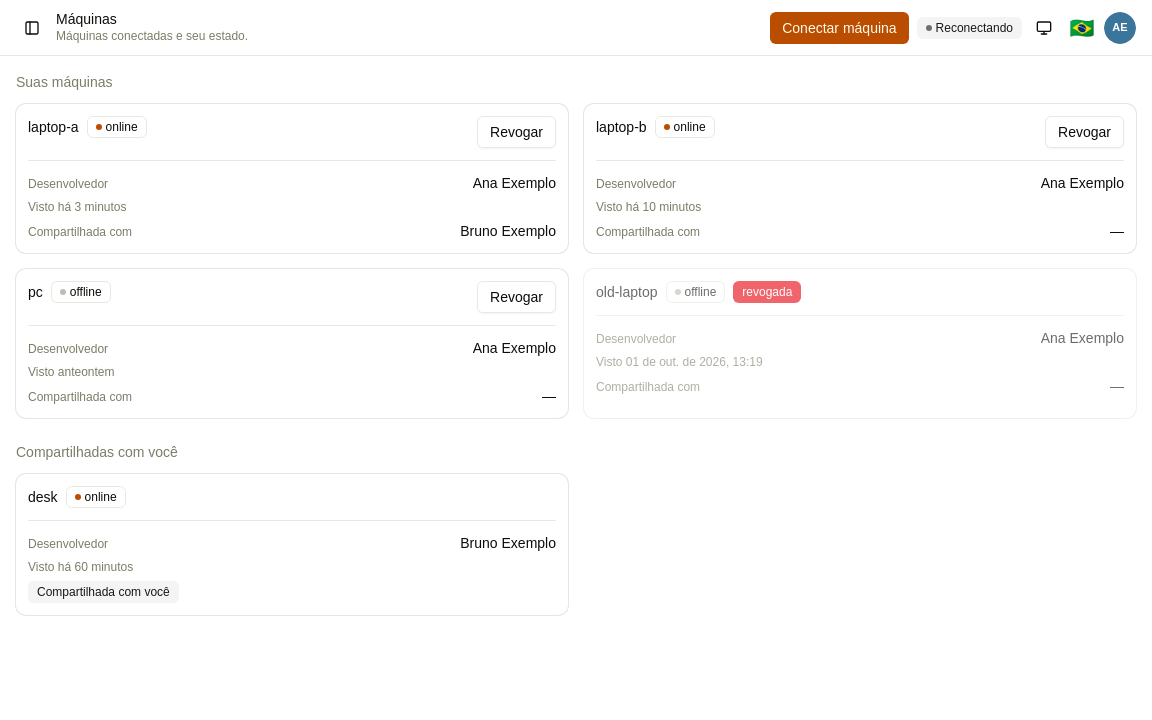
it: machines › revokes only after the confirmation dialog, never via confirm()
The width and height of the screenshot is (1152, 720).
Click the button "Revogar" in the row of "laptop-b". click: (1085, 132)
box: [1045,116,1124,148]
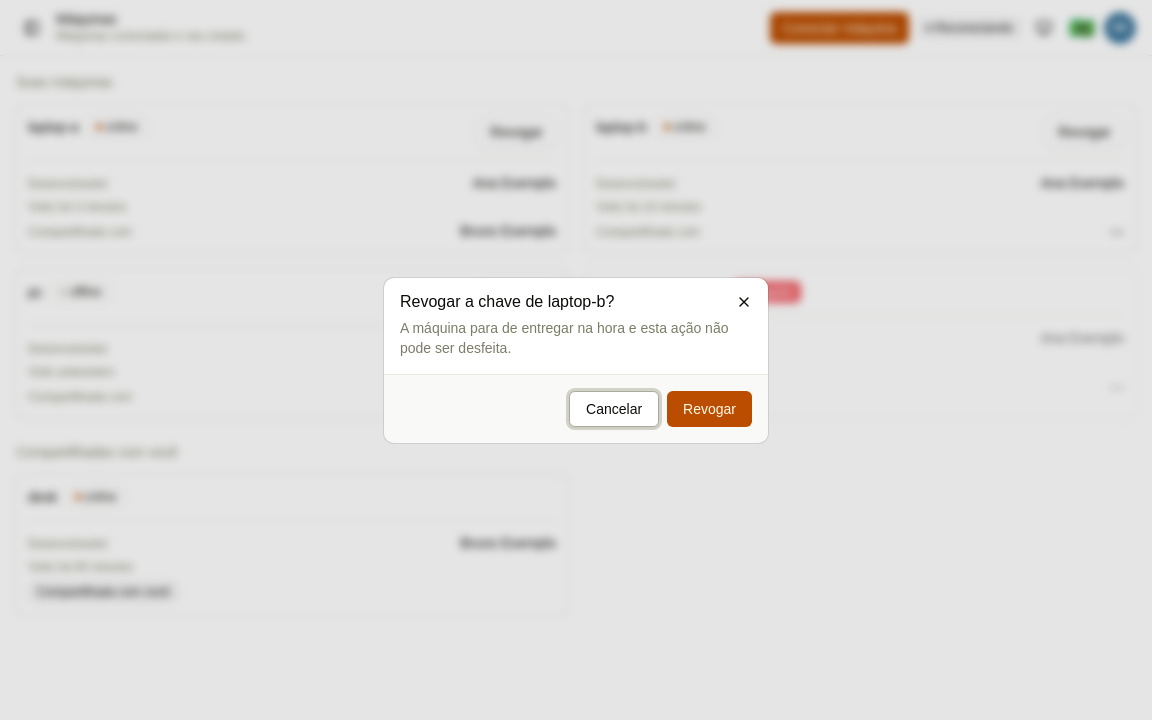
Result: the dialog shows "Revogar a chave de laptop-b?" at [400,292,614,310]
Result: the dialog shows "A máquina para de entregar na hora e esta ação não pode ser desfeita." at [400,320,728,356]
Cancelar não chama a API
Click the button "Cancelar". click: (614, 408)
box: [569,390,659,426]
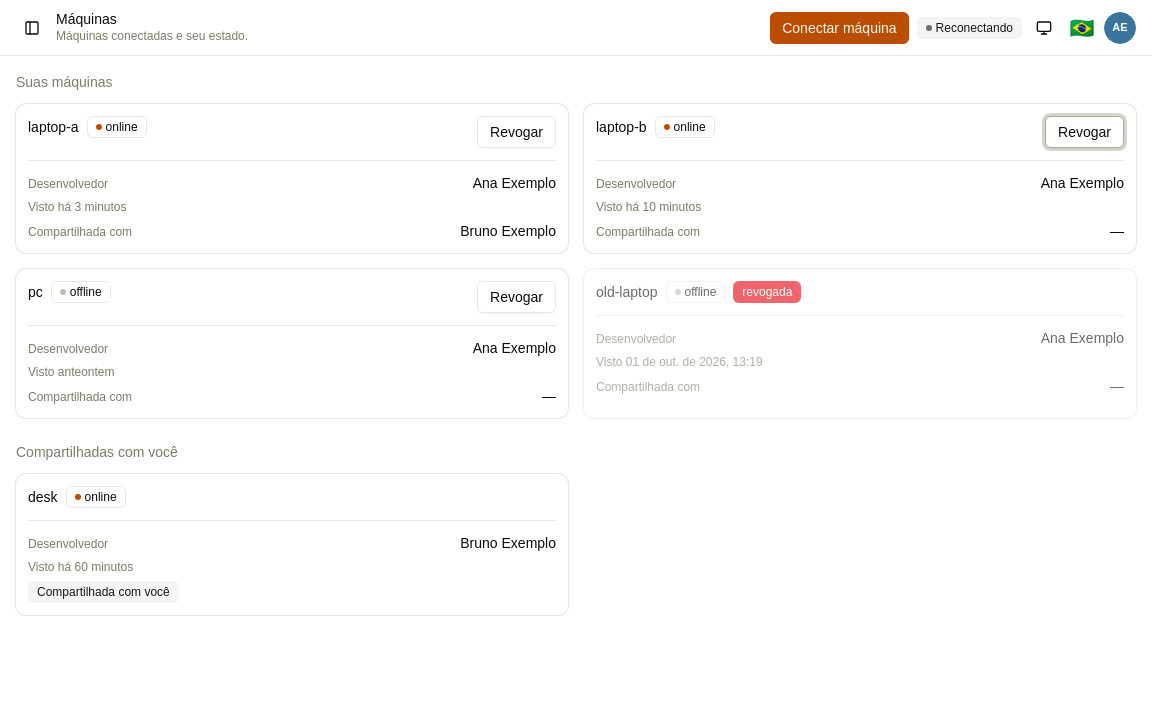
Result: the dialog is gone
Confirmar chama DELETE e a máquina vira revogada (invalidação da query)
Click the button "Revogar" in the row of "laptop-b". click: (1085, 132)
box: [1045,116,1124,148]
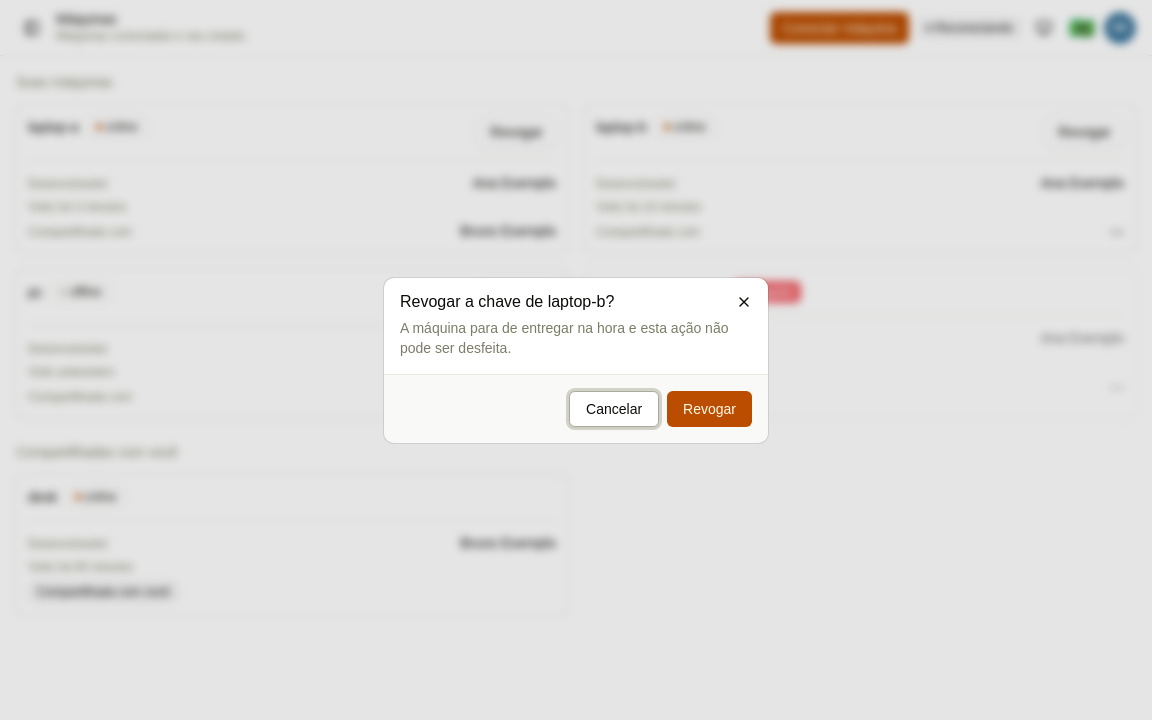
Click the button "Revogar". click: (710, 408)
box: [667,390,752,426]
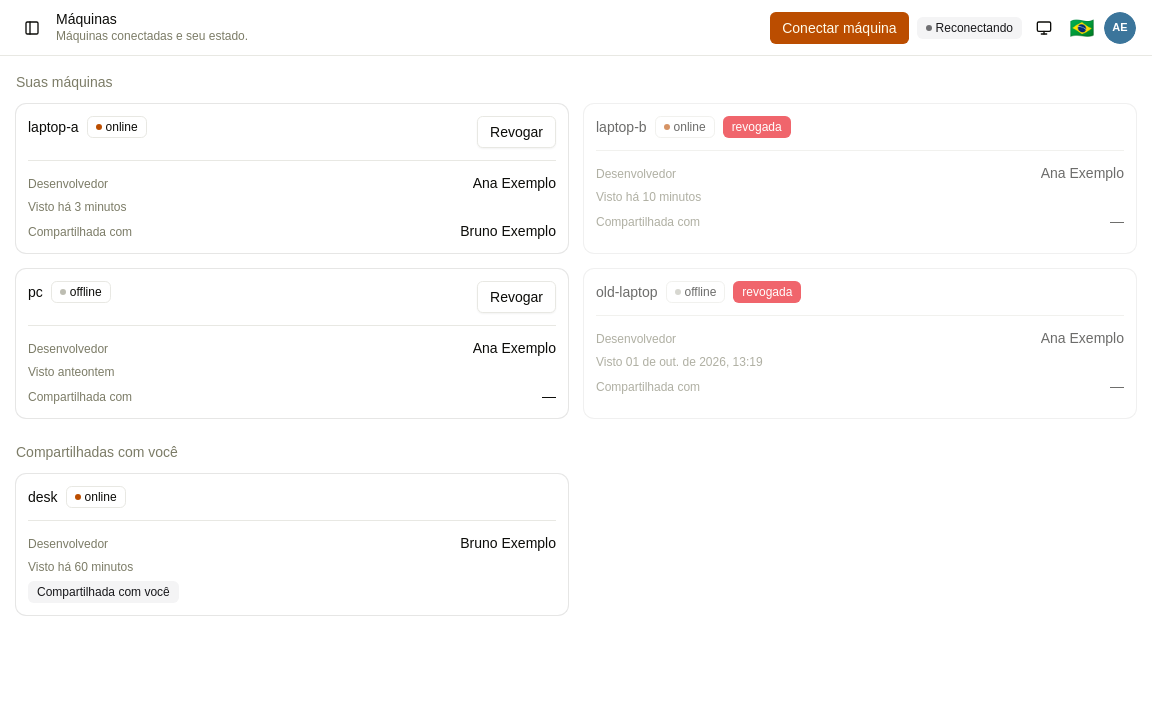
Result: the dialog is gone
Result: the element with test id "machine-card-m2" shows "revogada" at [732,120,782,134]
